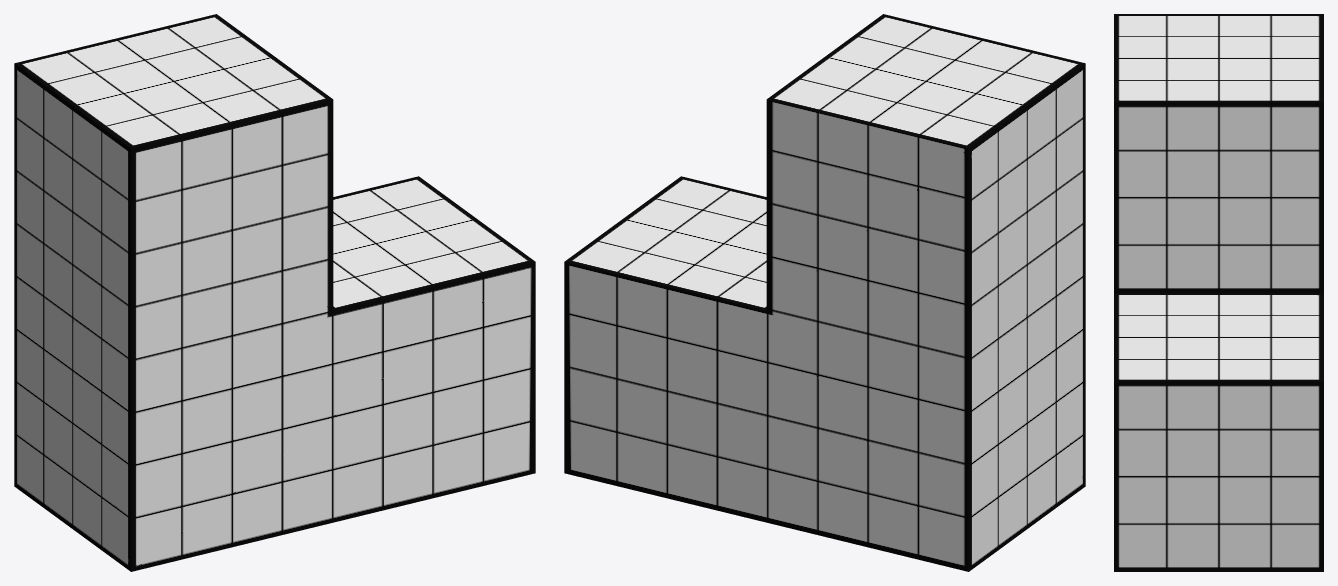
Rendered from fig2.glb.
3 renders of one model, left to right at view 1: azimuth 30°, elevation 25°; view 2: azimuth 150°, elevation 25°; view 3: azimuth 270°, elevation 25°, orthographic. The views are drawn at different scales.
Parts seen in each view (by area): view 1: root; view 2: root; view 3: root.
Part boxes in pixels (<box>): root: <box>14,14,535,571</box>; root: <box>564,14,1085,571</box>; root: <box>1114,14,1323,571</box>.
Size of the model in its own units: 0.08 by 0.08 by 0.04.
Materials: 5 (5 with a texture image).
